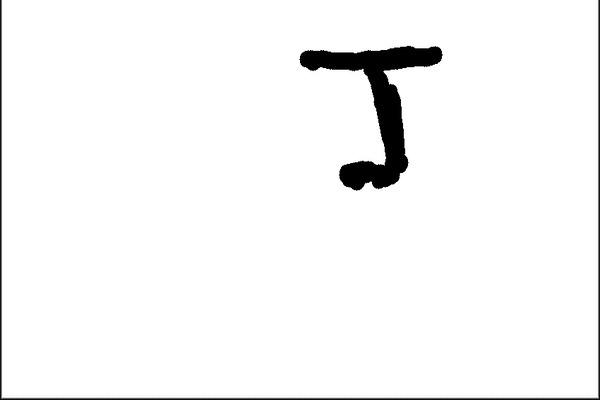J: (289, 35, 453, 196)
